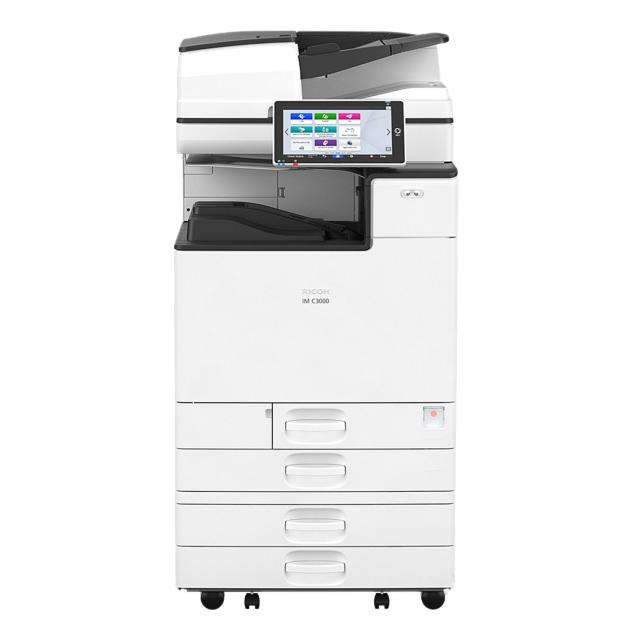printer: (172, 29, 459, 612)
